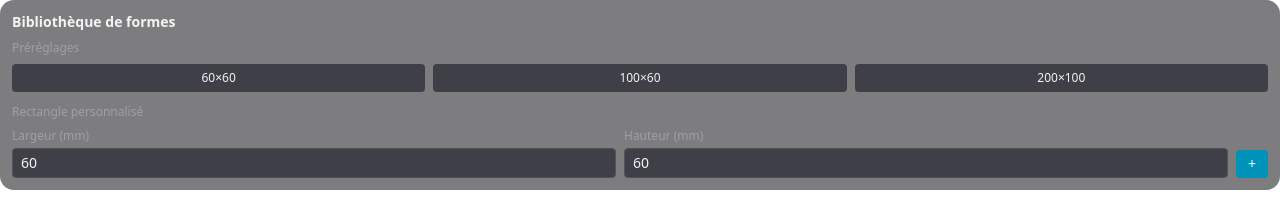
Test: ShapeLibrary - UI Component › Input tolerance and validation › clamps to scene max on blur when value exceeds scene size
Replace the text in the field with test id "custom-width" with "1000". click: (314, 163)
box: [12,148,616,178]
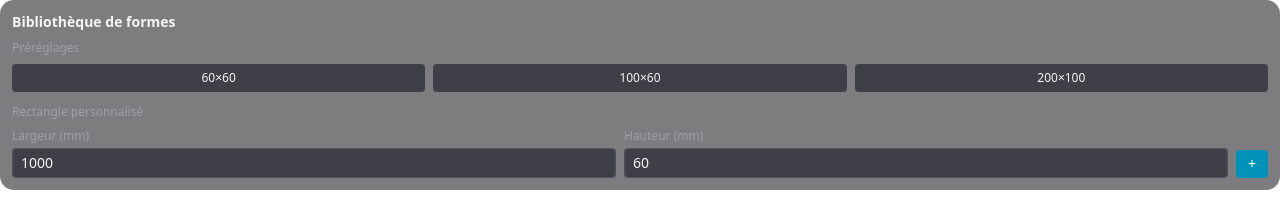
Leave the field with test id "custom-width", box [12,148,616,178]
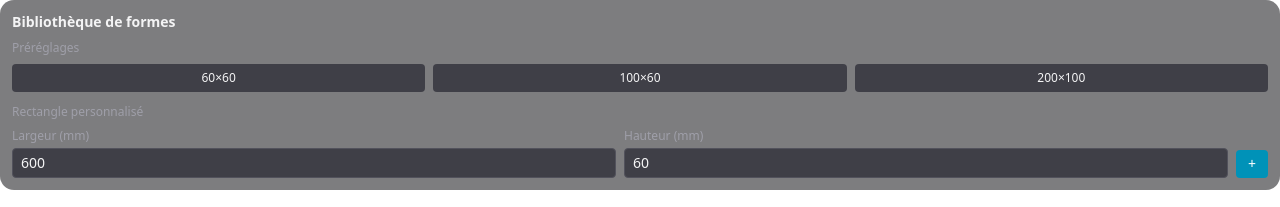
Check: the field with test id "custom-width" holds "600", box [12,148,616,178]
